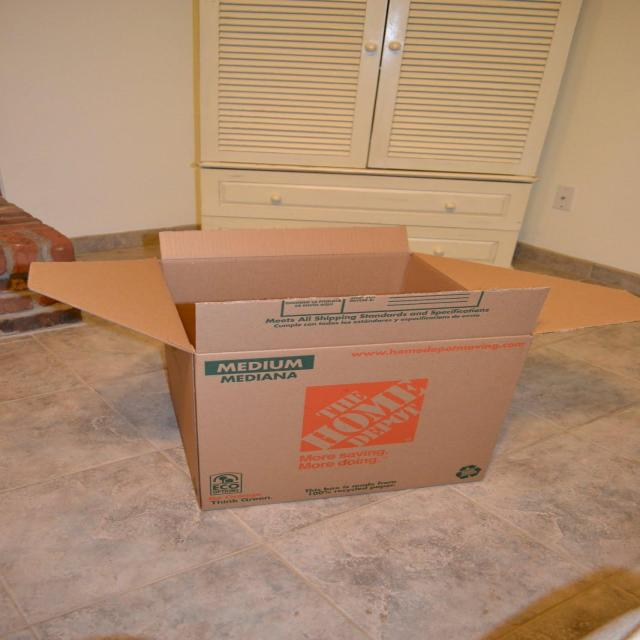cardboard: (26, 224, 640, 514)
